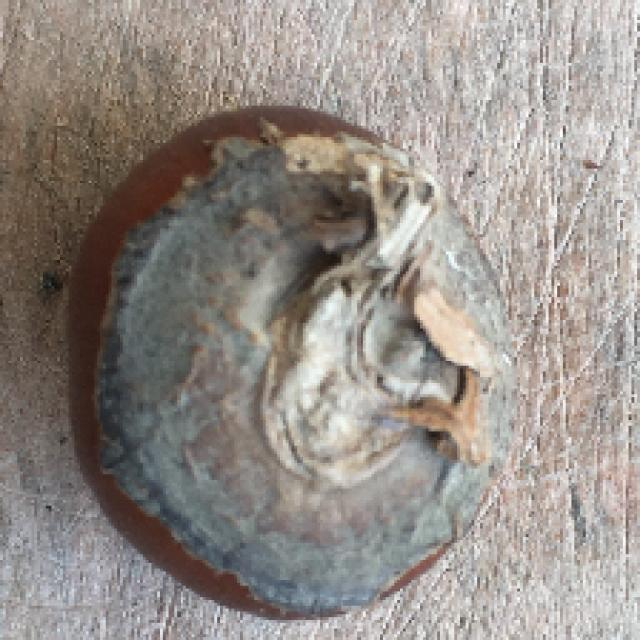damagedHazelnut: (56, 102, 529, 640)
